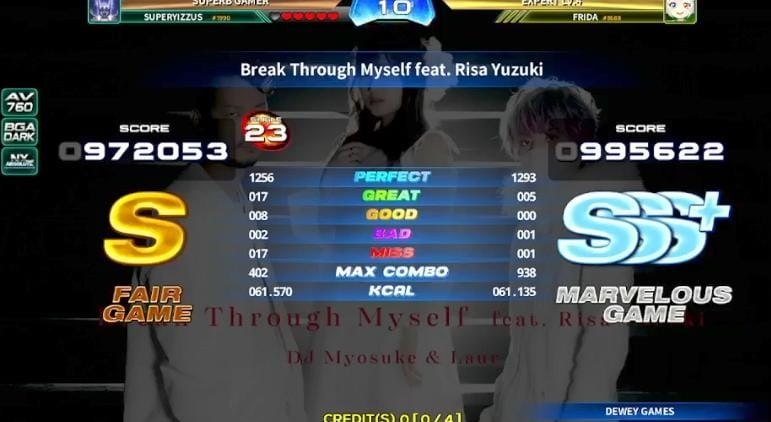difficulty: (240, 110, 292, 154)
fullscore: (3, 9, 468, 419)
rank: (93, 182, 213, 276)
score: (50, 111, 232, 165)
song_name: (196, 47, 579, 87)
